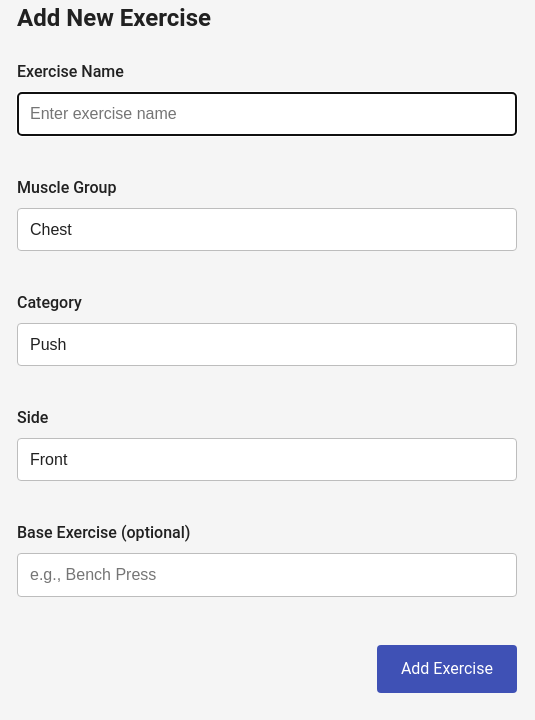
Test: AddExerciseForm › shows error message when add operation fails
The width and height of the screenshot is (535, 720).
Step 1. Type "New Exercise" into the field labelled "Exercise Name" → (267, 114), box [17,92,517,136]
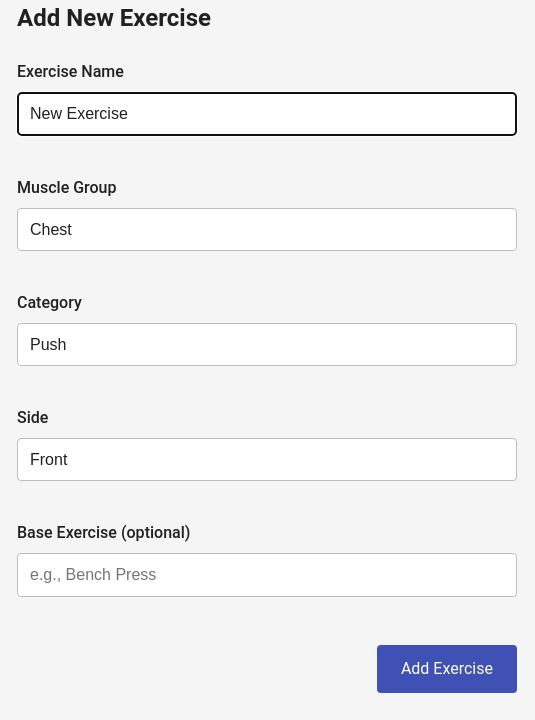
Step 2. Click the button "Add Exercise" → (447, 669), box [377,645,517,693]
(page scrolled)
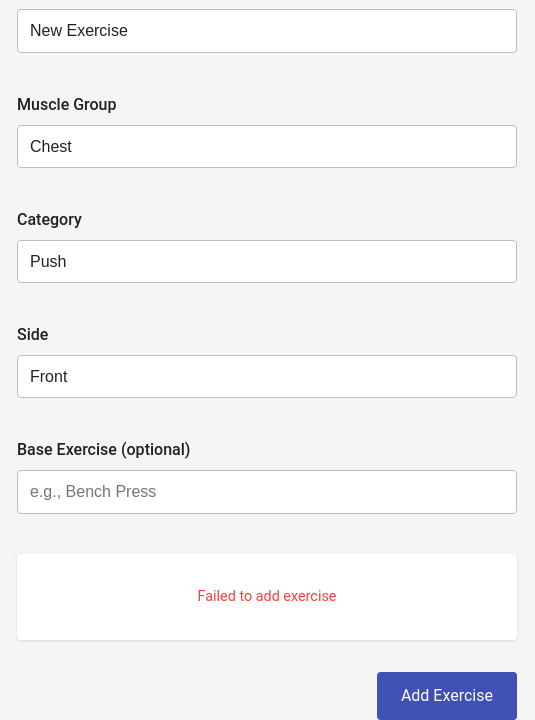
Now the text "Failed to add exercise" is shown, box [17,554,517,640]
